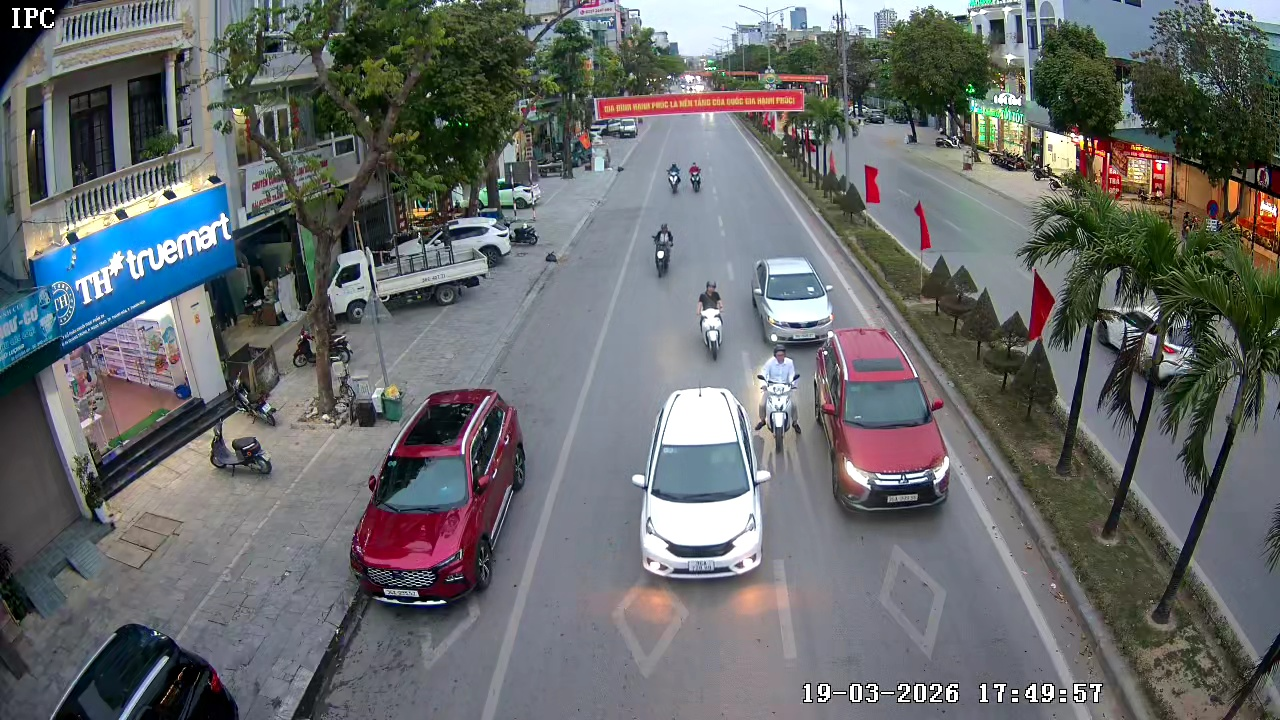car: (347, 387, 529, 605), (632, 386, 772, 581), (812, 327, 952, 515), (751, 255, 834, 348)
motorbike: (753, 344, 804, 454), (208, 407, 274, 478), (695, 277, 728, 361), (649, 221, 676, 278), (665, 160, 682, 195), (688, 159, 704, 194)
